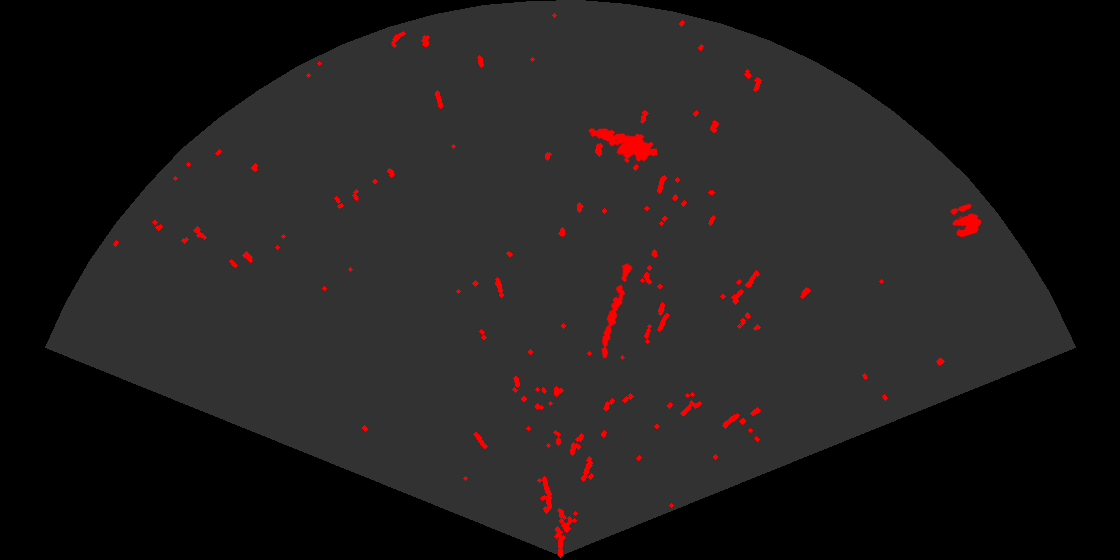ball: (949, 202, 983, 239)
chain: (600, 261, 634, 360)
frogman: (587, 127, 657, 165)
